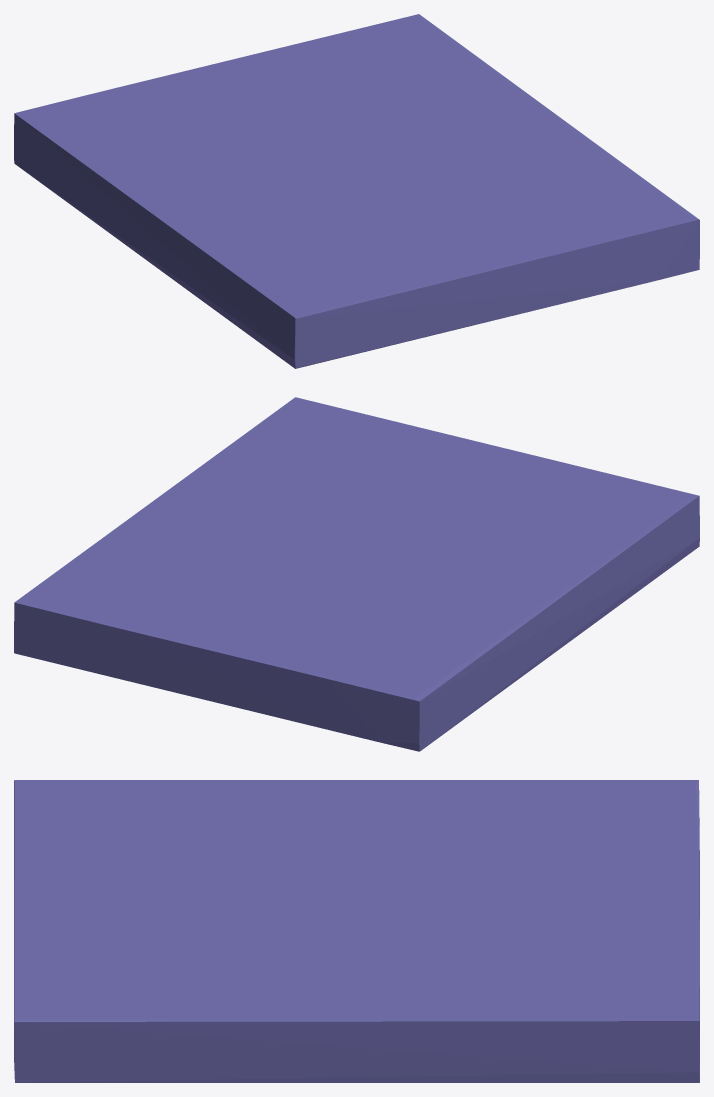
File: pallet_block_a01.glb
The picture shows the model from 3 angles, top to bottom: view 1: azimuth 30°, elevation 25°; view 2: azimuth 150°, elevation 25°; view 3: azimuth 270°, elevation 25°; orthographic projection. The views are drawn at different scales.
Visible parts, largest first — view 1: geometry_0; view 2: geometry_0; view 3: geometry_0.
Boxes of the visible parts, bbox=[...] form: geometry_0: bbox=[14, 14, 699, 368]; geometry_0: bbox=[14, 397, 699, 751]; geometry_0: bbox=[14, 780, 699, 1082].
Size of the model in its own units: 0.4 by 0.0481 by 0.48.
